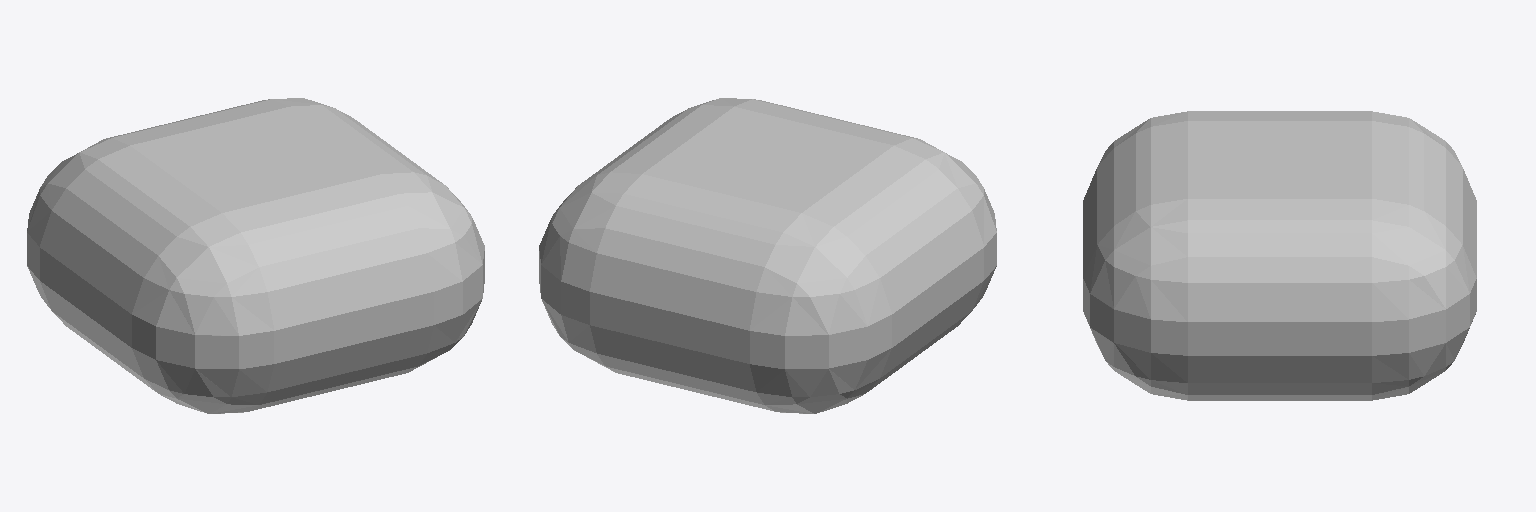
File: ball.obj
The picture shows the model from 3 angles: view 1: azimuth 30°, elevation 25°; view 2: azimuth 150°, elevation 25°; view 3: azimuth 270°, elevation 25°; orthographic projection.
Visible parts, largest first — view 1: Mball; view 2: Mball; view 3: Mball.
Boxes of the visible parts, box(x1,y1,x2,y2) form: Mball: box(27, 98, 484, 413); Mball: box(539, 98, 996, 413); Mball: box(1083, 111, 1476, 400).
Size of the model in its own units: 3.33 by 1.79 by 3.33.